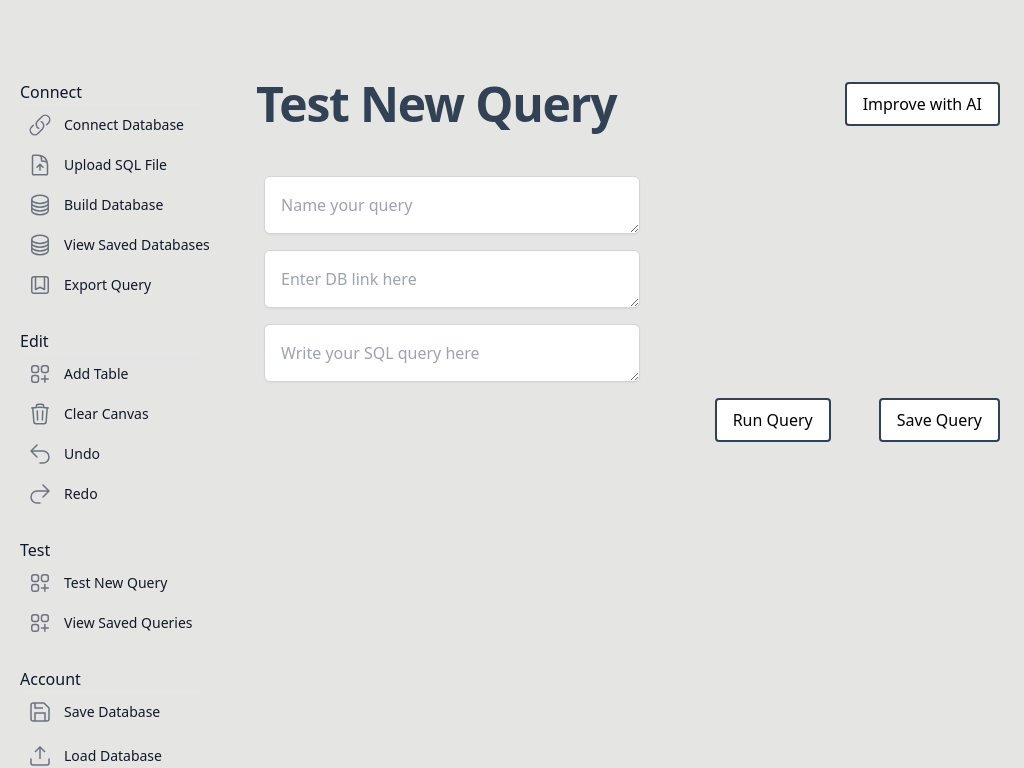
Test New Query Component › checks if clicking Run Query button renders a table with results
The image size is (1024, 768).
# will simulate user typing into input fields
Type "My Test Query" into the text box with placeholder "Name your query". click: point(452, 205)
box: [264,176,640,234]
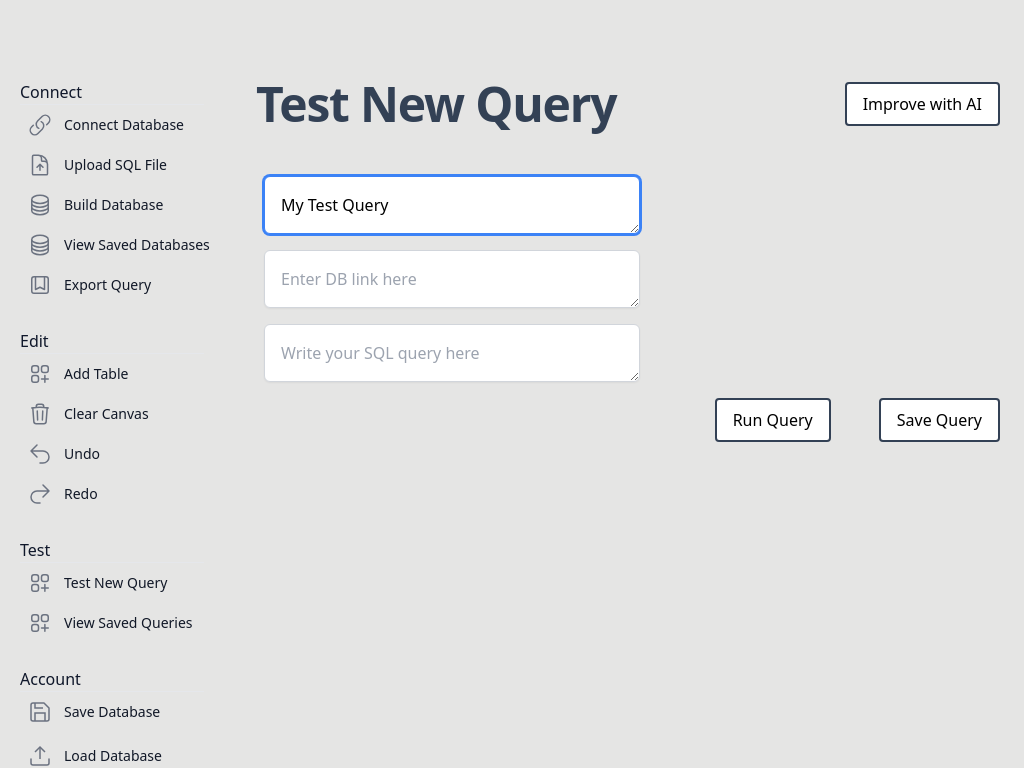
Type "postgres://user:pass@host:5432/db" into the text box with placeholder "Enter DB link here". click: point(452, 279)
box: [264,250,640,308]
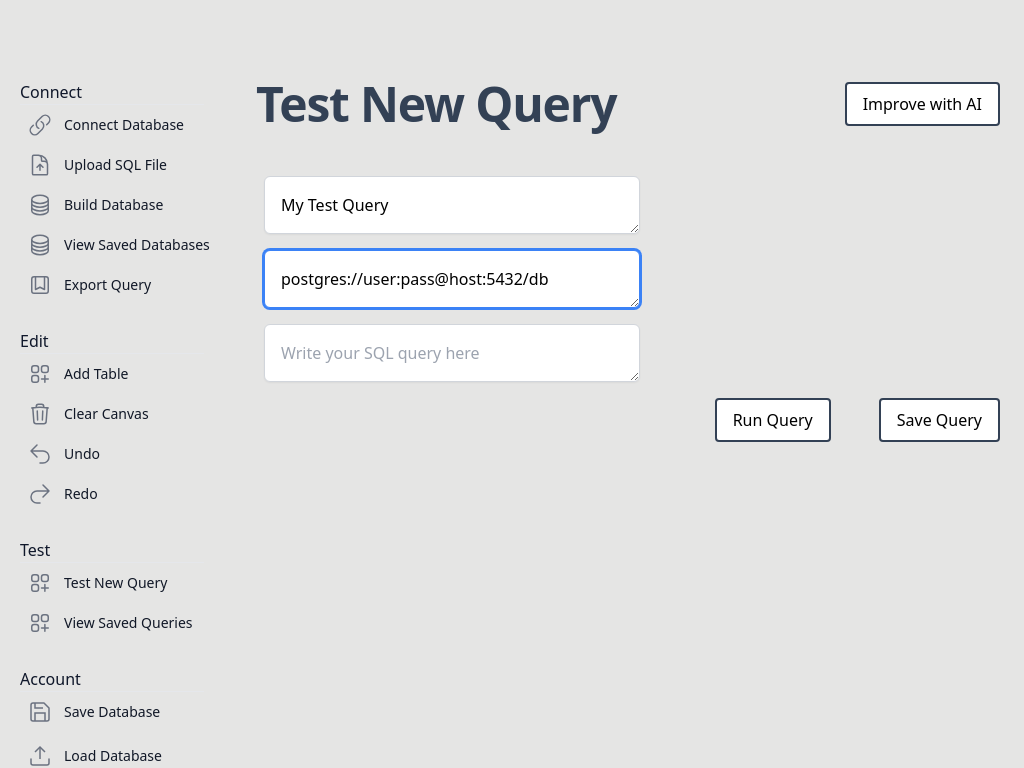
Type "SELECT * FROM users" into the text box with placeholder "Write your SQL query here". click: point(452, 353)
box: [264,324,640,382]
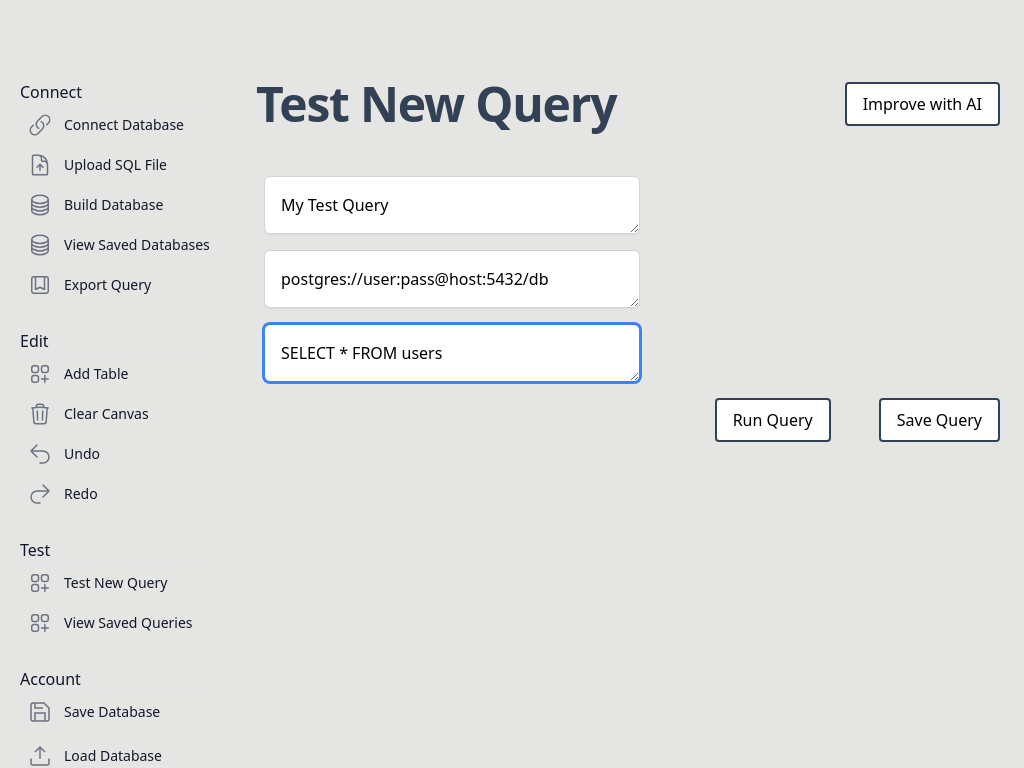
Click the button "Run Query". click: point(773, 420)
box: [715,398,831,442]
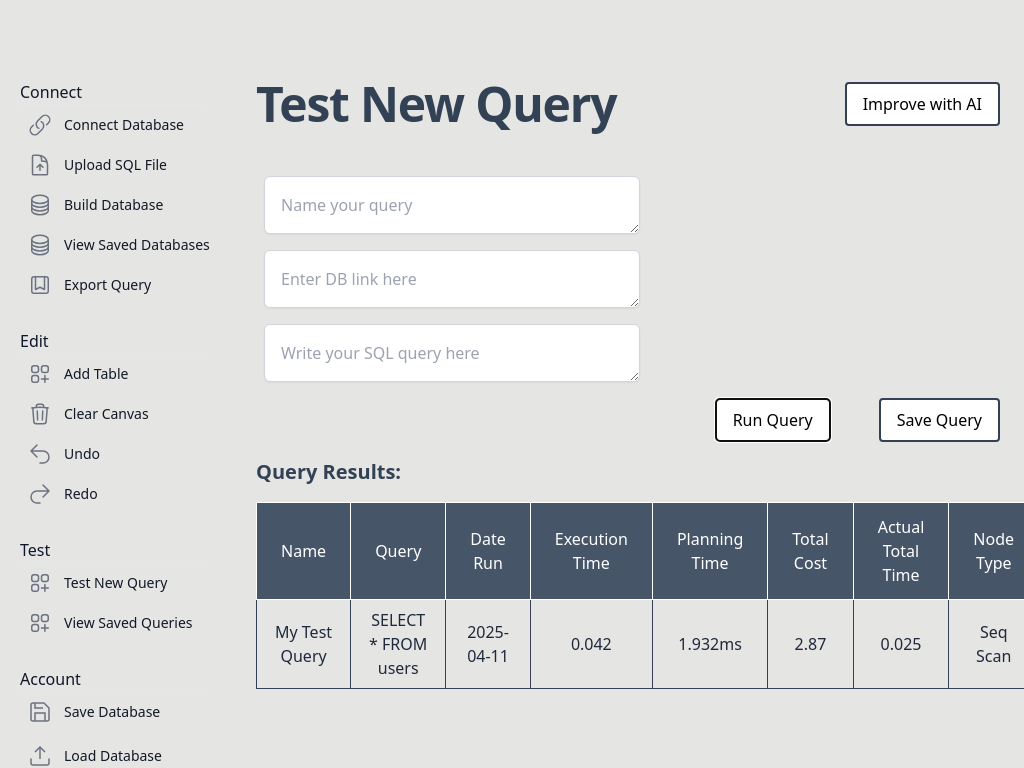
Check: the heading "Query Results:" is shown, box [256,458,401,485]
Check: the text "My Test Query" is shown, box [256,600,351,688]
Check: the text "SELECT * FROM users" is shown, box [351,600,446,688]
